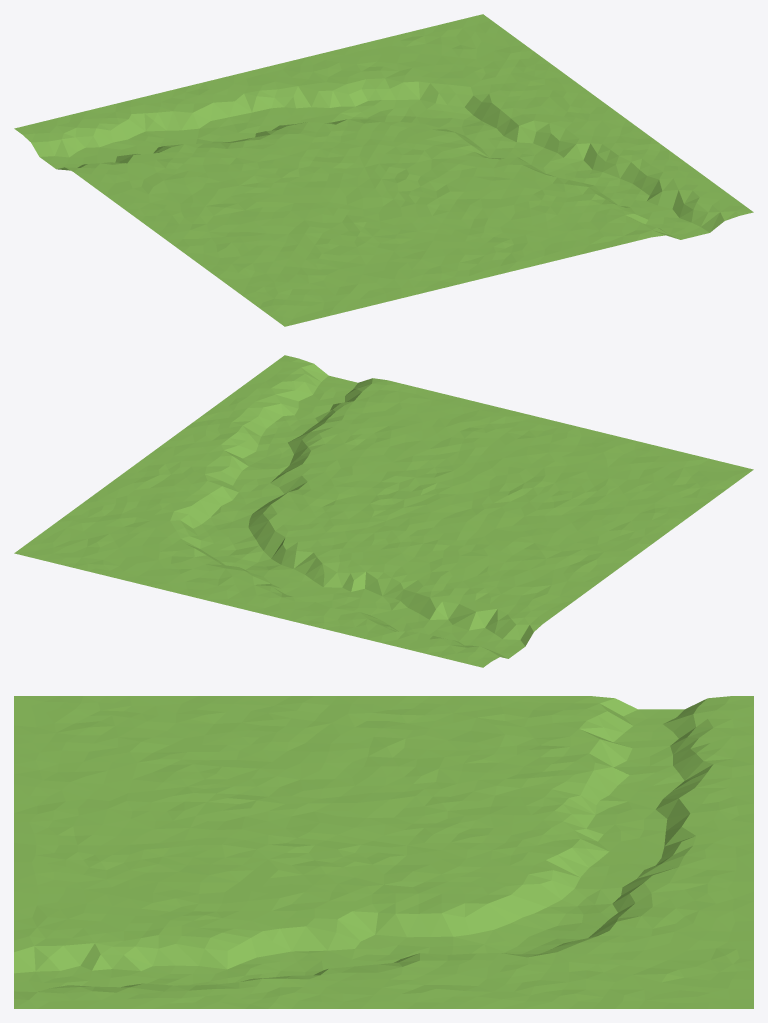
Rendered from MT_River_L_b_01_R.fbx.
The picture shows the model from 3 angles, top to bottom: view 1: azimuth 30°, elevation 25°; view 2: azimuth 150°, elevation 25°; view 3: azimuth 270°, elevation 25°; orthographic projection. The views are drawn at different scales.
Parts seen in each view (by area): view 1: MT_River_L_b_01_R; view 2: MT_River_L_b_01_R; view 3: MT_River_L_b_01_R.
Part boxes in pixels (x1=…): MT_River_L_b_01_R: x1=14, y1=14, x2=753, y2=326; MT_River_L_b_01_R: x1=14, y1=355, x2=753, y2=667; MT_River_L_b_01_R: x1=14, y1=696, x2=753, y2=1008.
Bounding box in the file's own units: 10000 × 270 × 10000.
